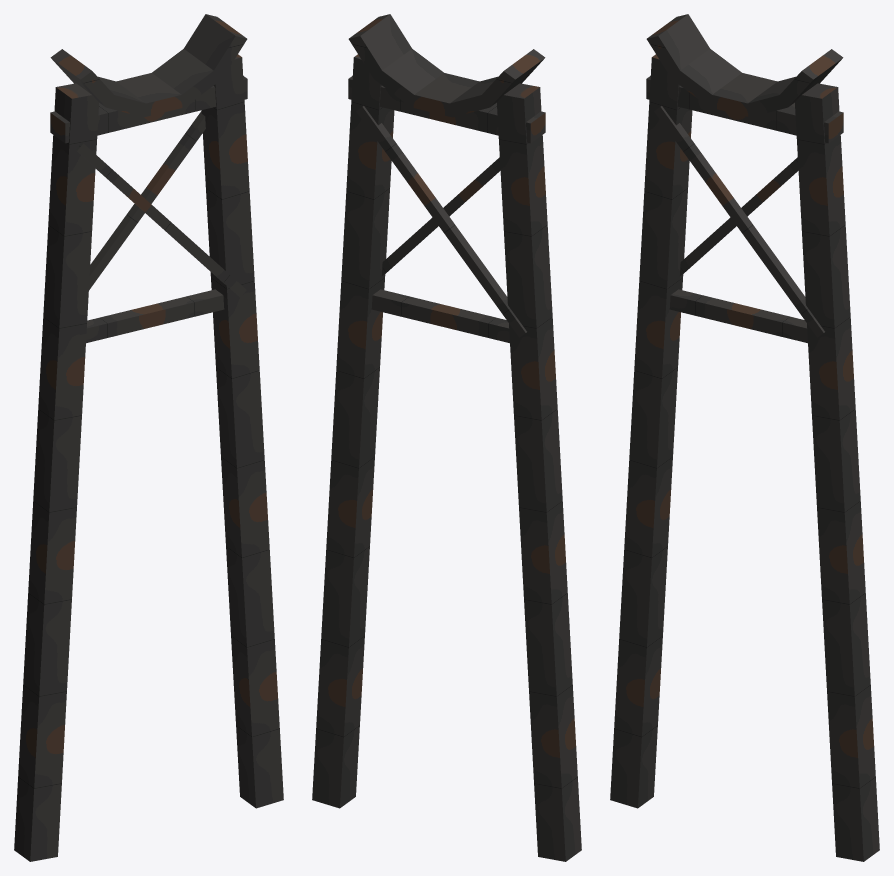
File: pipe_support_v1.fbx
3 renders of one model, left to right at view 1: azimuth 30°, elevation 25°; view 2: azimuth 150°, elevation 25°; view 3: azimuth 330°, elevation 25°, orthographic.
Visible parts, largest first — view 1: pipe_support_v1_lod0; view 2: pipe_support_v1_lod0; view 3: pipe_support_v1_lod0.
Boxes of the visible parts, x1=… form: pipe_support_v1_lod0: x1=14, y1=14, x2=283, y2=861; pipe_support_v1_lod0: x1=312, y1=14, x2=581, y2=861; pipe_support_v1_lod0: x1=610, y1=14, x2=879, y2=861.
Size of what is drawn, in the model's own units: 292 by 862 by 60.
